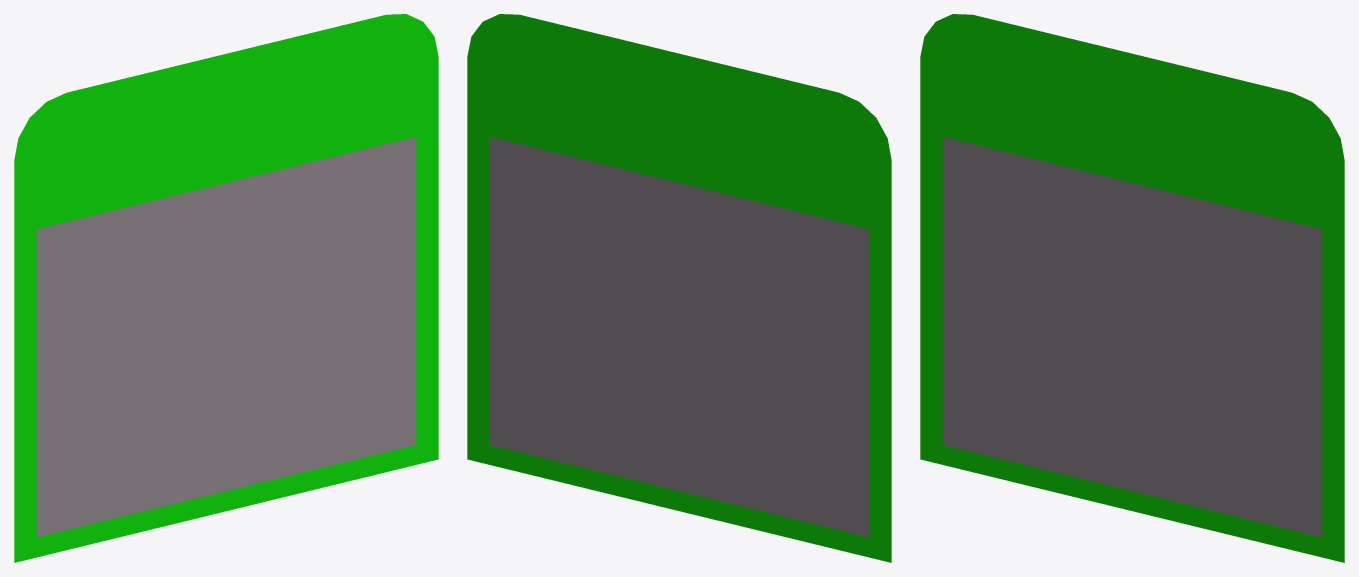
File: Gate_Simple.fbx
The picture shows the model from 3 angles, left to right: view 1: azimuth 30°, elevation 25°; view 2: azimuth 150°, elevation 25°; view 3: azimuth 330°, elevation 25°; orthographic projection.
Parts seen in each view (by area): view 1: Gate_Simple; view 2: Gate_Simple; view 3: Gate_Simple.
Boxes of the visible parts, box(x1,y1,x2,y2) form: Gate_Simple: box(14, 14, 438, 562); Gate_Simple: box(467, 14, 891, 562); Gate_Simple: box(920, 14, 1344, 562).
Bounding box in the file's own units: 384 × 396 × 0.000202.
